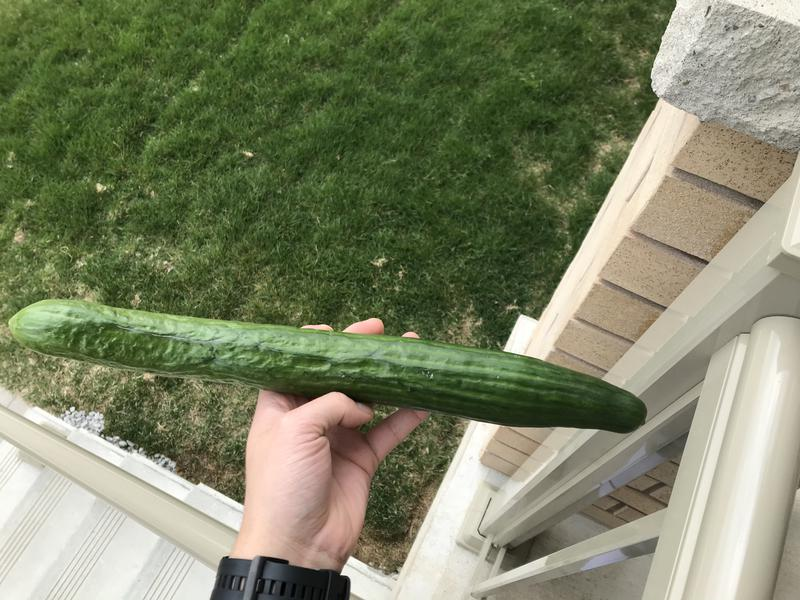cucumber: (5, 291, 661, 449)
